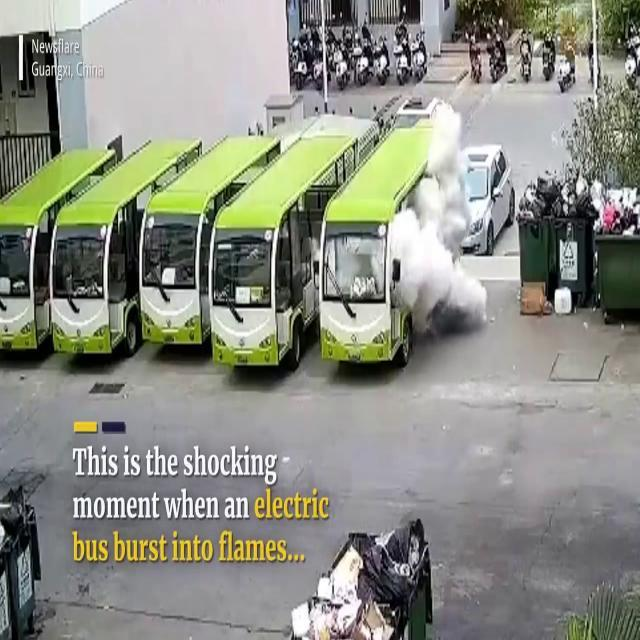Smoke: (391, 138, 483, 332)
